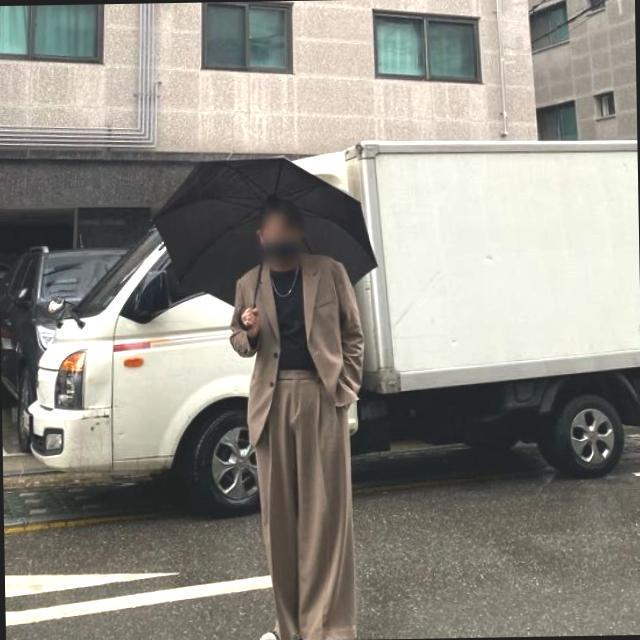blazer: (226, 261, 362, 454)
slacks: (254, 373, 357, 640)
